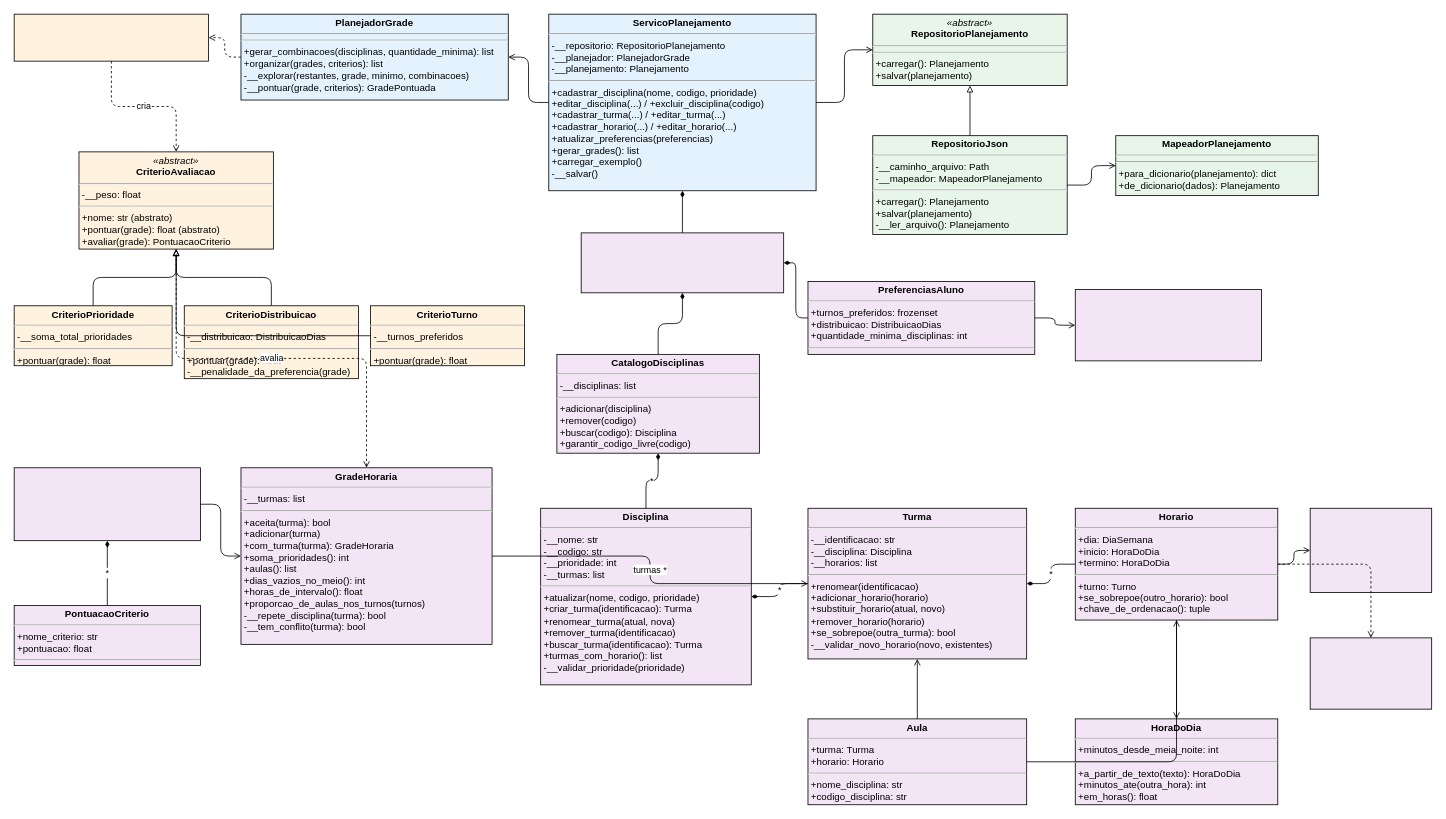
The diagram is 1446 pixels wide and 819 high, and some of its shapes have lost their labels. The shapes that lost their labels are listed below. From the top down, each one's box as (x1, y1, x2, y2) in pixels, then its label:
(13, 13, 209, 61): FabricaCriterios +criar(disciplinas, preferencias): list
(580, 232, 784, 293): Planejamento +catalogo: CatalogoDisciplinas +preferencias: PreferenciasAluno
(1074, 289, 1262, 361): «enum» DistribuicaoDias CONCENTRADA EQUILIBRADA
(13, 467, 200, 541): GradePontuada +grade: GradeHoraria +pontuacoes: tuple +pontuacao_total: float
(1309, 507, 1432, 593): «enum» DiaSemana SEGUNDA ... SABADO +ordem: int +rotulo: str
(1309, 637, 1432, 709): «enum» Turno MANHA, TARDE, NOITE +da_hora(hora): Turno
